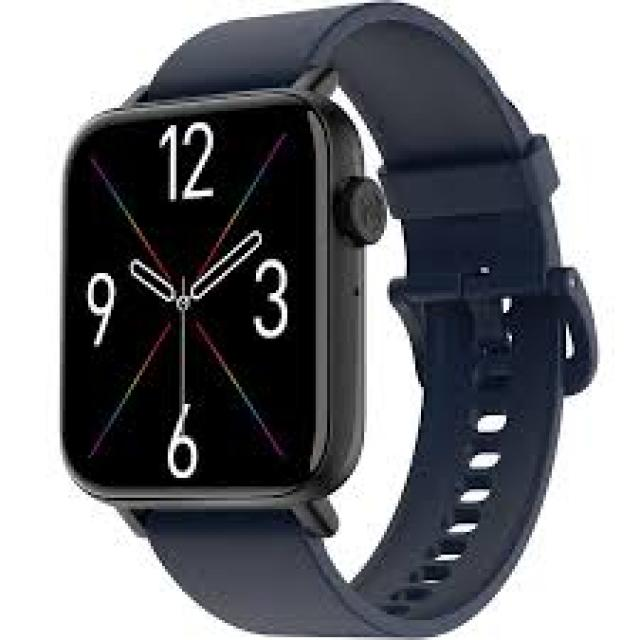objects: (63, 0, 594, 636)
